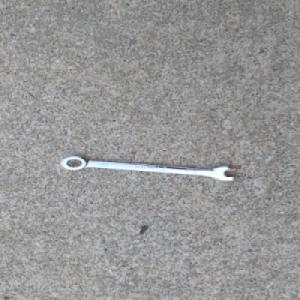Wrench: (60, 156, 241, 183)
